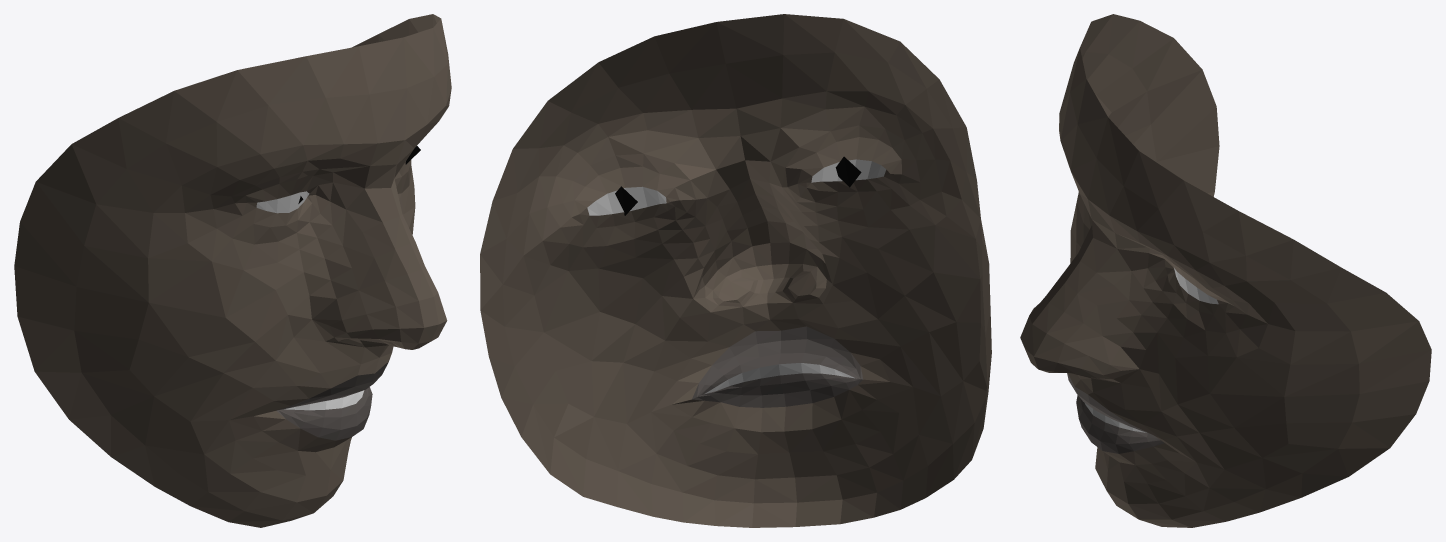
Rendered from frame_00112.obj.
The picture shows the model from 3 angles, left to right: view 1: azimuth 30°, elevation 25°; view 2: azimuth 150°, elevation 25°; view 3: azimuth 270°, elevation 25°; orthographic projection. The views are drawn at different scales.
Parts seen in each view (by area): view 1: face_model_with_iris; view 2: face_model_with_iris; view 3: face_model_with_iris.
Boxes of the visible parts, x1,y1,x2,y2 form: face_model_with_iris: (14,14,451,527); face_model_with_iris: (480,14,991,527); face_model_with_iris: (1020,14,1431,527).
Size of the model in its own units: 0.496 by 0.5359 by 0.436.
